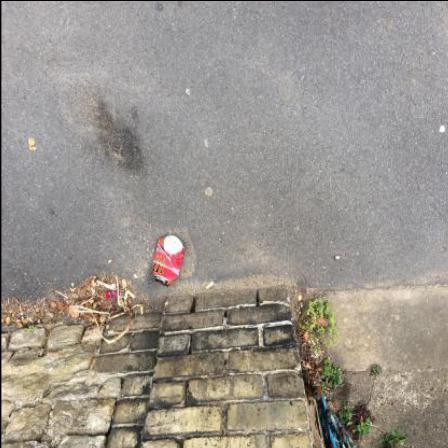Can: (153, 235, 185, 287)
Cigarette: (205, 282, 213, 291), (128, 291, 135, 301), (311, 340, 315, 346), (140, 308, 142, 316), (313, 316, 315, 321)
